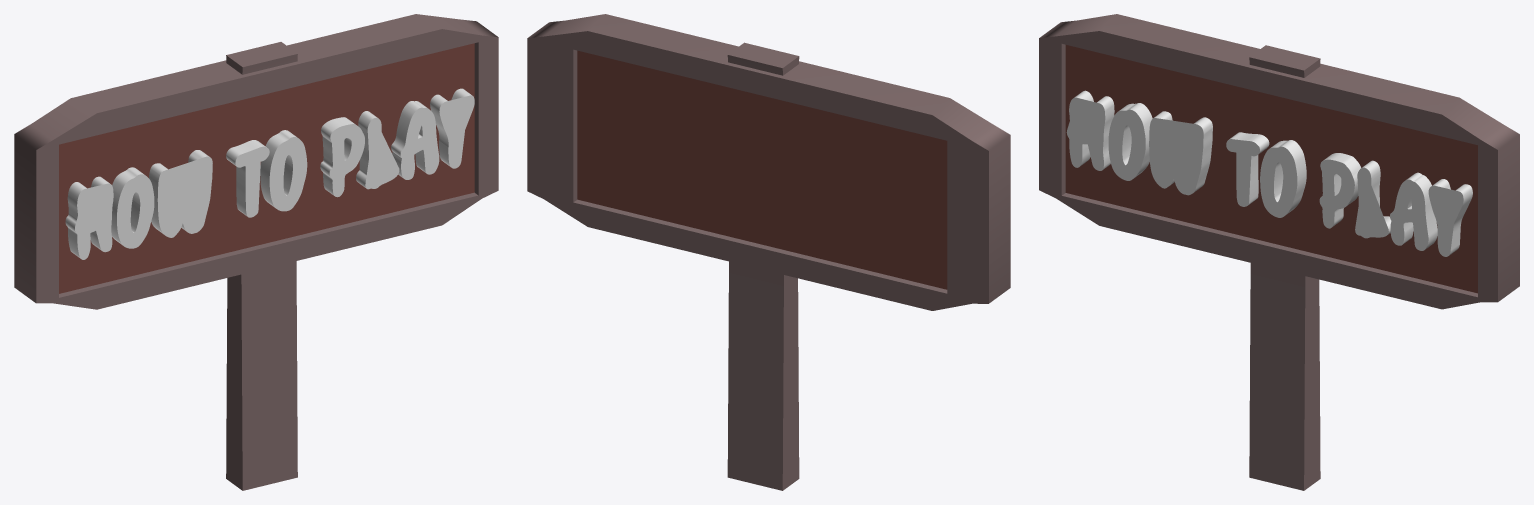
The model's file is howto_sign2.fbx.
3 views of the same model, side by side, from view 1: azimuth 30°, elevation 25°; view 2: azimuth 150°, elevation 25°; view 3: azimuth 330°, elevation 25° (orthographic).
Visible parts, largest first — view 1: start2; view 2: start2; view 3: start2.
Boxes of the visible parts, x1=… form: start2: x1=14, y1=14, x2=498, y2=490; start2: x1=527, y1=14, x2=1010, y2=490; start2: x1=1039, y1=14, x2=1519, y2=490.
Size of the model in its own units: 6.79 by 5.94 by 0.6949.
